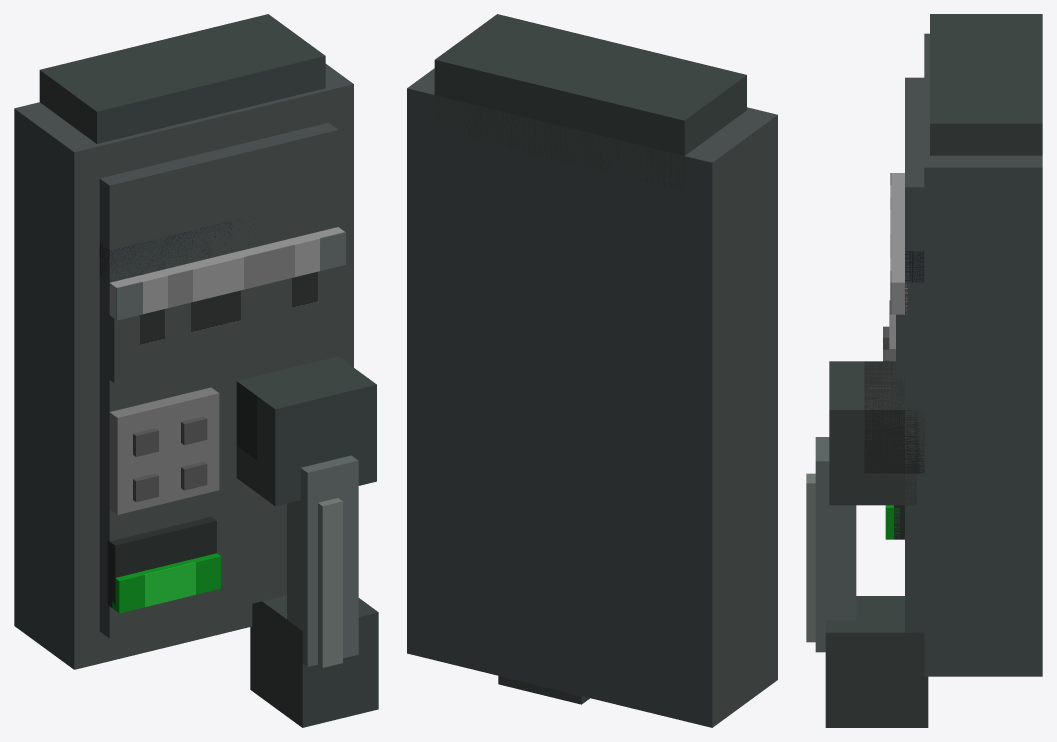
Rendered from CMU3DVehicleInteriorWallPhoneInheritedMiscCloud.glb.
The picture shows the model from 3 angles, left to right: view 1: azimuth 30°, elevation 25°; view 2: azimuth 150°, elevation 25°; view 3: azimuth 270°, elevation 25°; orthographic projection. The views are drawn at different scales.
Parts seen in each view (by area): view 1: grey-green main wall case, front inset faceplate, slightly inset top shoulder, upper handset earpiece, upper stepped slotted controls source detail, lower handset mouthpiece, slender handset bridge, lower silver keypad housing, upper white label source detail, lower dark indicator well, handset bright center rib, original green status strip source detail (+8 smaller); view 2: grey-green main wall case, slightly inset top shoulder, lower handset mouthpiece; view 3: grey-green main wall case, slightly inset top shoulder, lower handset mouthpiece, front inset faceplate, upper handset earpiece, slender handset bridge, upper cradle hook, upper white label, handset bright center rib, upper stepped slotted controls, upper dark slot, original green status strip.
Boxes of the visible parts, x1=… form: grey-green main wall case: x1=14, y1=64, x2=353, y2=669; front inset faceplate: x1=99, y1=122, x2=338, y2=638; slightly inset top shoulder: x1=39, y1=14, x2=325, y2=143; upper handset earpiece: x1=236, y1=356, x2=376, y2=506; upper stepped slotted controls source detail: x1=113, y1=265, x2=342, y2=382; lower handset mouthpiece: x1=250, y1=595, x2=378, y2=727; slender handset bridge: x1=287, y1=455, x2=358, y2=666; lower silver keypad housing: x1=109, y1=387, x2=219, y2=514; upper white label source detail: x1=116, y1=232, x2=345, y2=320; lower dark indicator well: x1=107, y1=517, x2=216, y2=607; handset bright center rib: x1=318, y1=498, x2=342, y2=667; original green status strip source detail: x1=119, y1=556, x2=220, y2=613; grey-green main wall case: x1=407, y1=68, x2=777, y2=727; slightly inset top shoulder: x1=434, y1=14, x2=746, y2=190; lower handset mouthpiece: x1=498, y1=676, x2=589, y2=704; grey-green main wall case: x1=924, y1=33, x2=1042, y2=676; slightly inset top shoulder: x1=930, y1=14, x2=1042, y2=155; lower handset mouthpiece: x1=825, y1=596, x2=928, y2=727; front inset faceplate: x1=905, y1=77, x2=924, y2=632; upper handset earpiece: x1=829, y1=361, x2=916, y2=505; slender handset bridge: x1=815, y1=437, x2=856, y2=652; upper cradle hook: x1=864, y1=361, x2=924, y2=473; upper white label: x1=891, y1=173, x2=907, y2=314; handset bright center rib: x1=806, y1=473, x2=815, y2=642; upper stepped slotted controls: x1=896, y1=314, x2=907, y2=378; upper dark slot: x1=905, y1=251, x2=924, y2=282; original green status strip: x1=886, y1=505, x2=899, y2=539.
Size of the model in its own units: 0.3438 by 0.722 by 0.256.
Materials: 14 (3 with a texture image).
